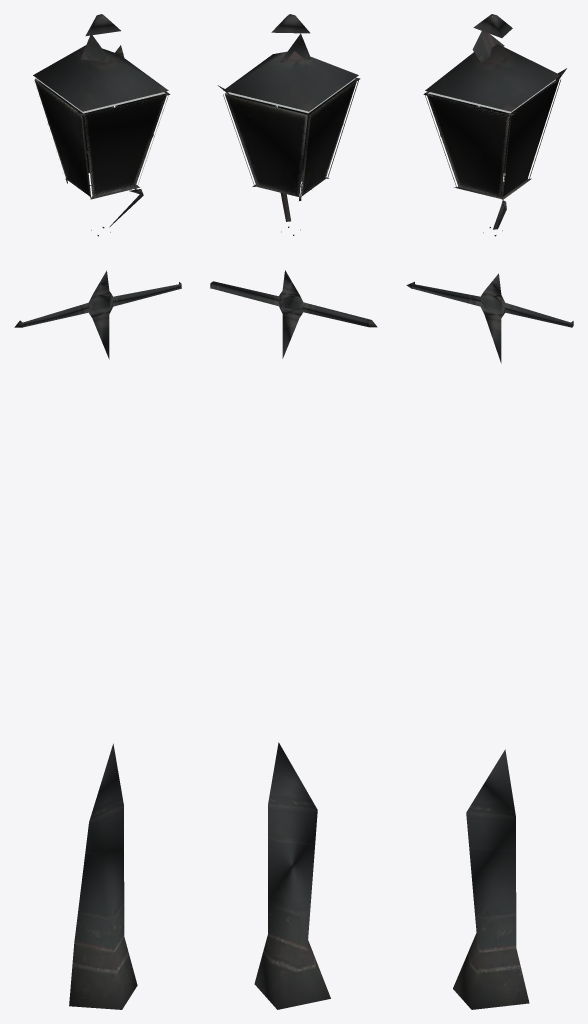
File: street_lamp_01.glb
3 views of the same model, side by side, from view 1: azimuth 30°, elevation 25°; view 2: azimuth 150°, elevation 25°; view 3: azimuth 330°, elevation 25° (orthographic).
Parts seen in each view (by area): view 1: street_lamp_01; view 2: street_lamp_01; view 3: street_lamp_01.
Part boxes in pixels (<box>): street_lamp_01: <box>14,14,181,1009</box>; street_lamp_01: <box>210,14,377,1009</box>; street_lamp_01: <box>406,14,573,1009</box>.
Size of the model in its own units: 0.6724 by 3.78 by 0.3707.
2 materials, 2 textured.
